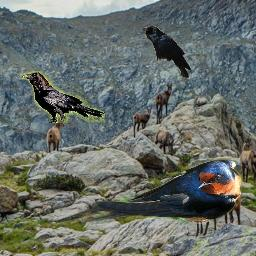Crow: (20, 71, 105, 123), (140, 26, 191, 78)
Swallow: (78, 158, 243, 224)
